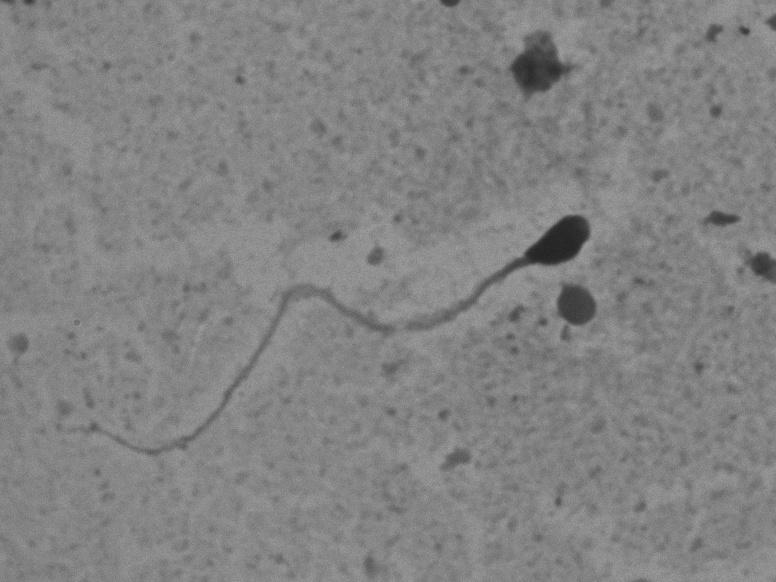Abnormal: (58, 181, 598, 500)
